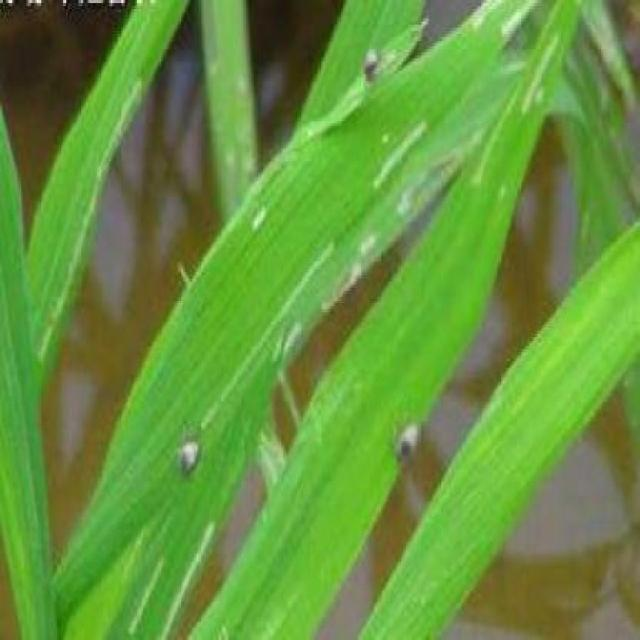rice-bug: (172, 428, 203, 475), (392, 419, 423, 466), (362, 44, 380, 78)
